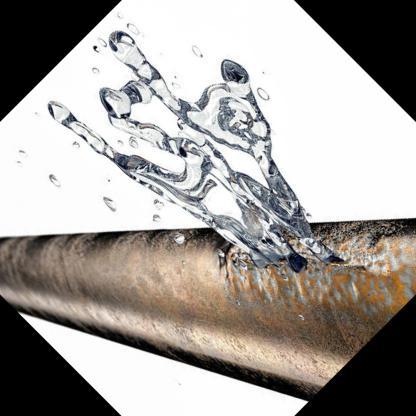burst: (185, 220, 374, 300)
